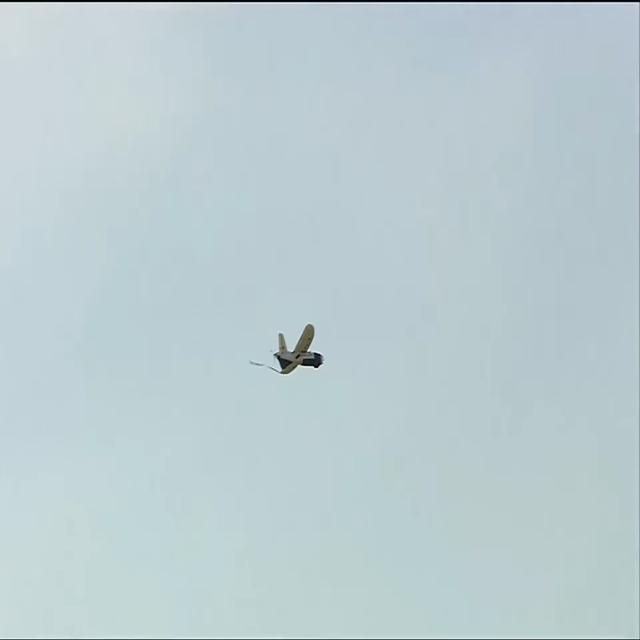iha: (274, 324, 326, 376)
